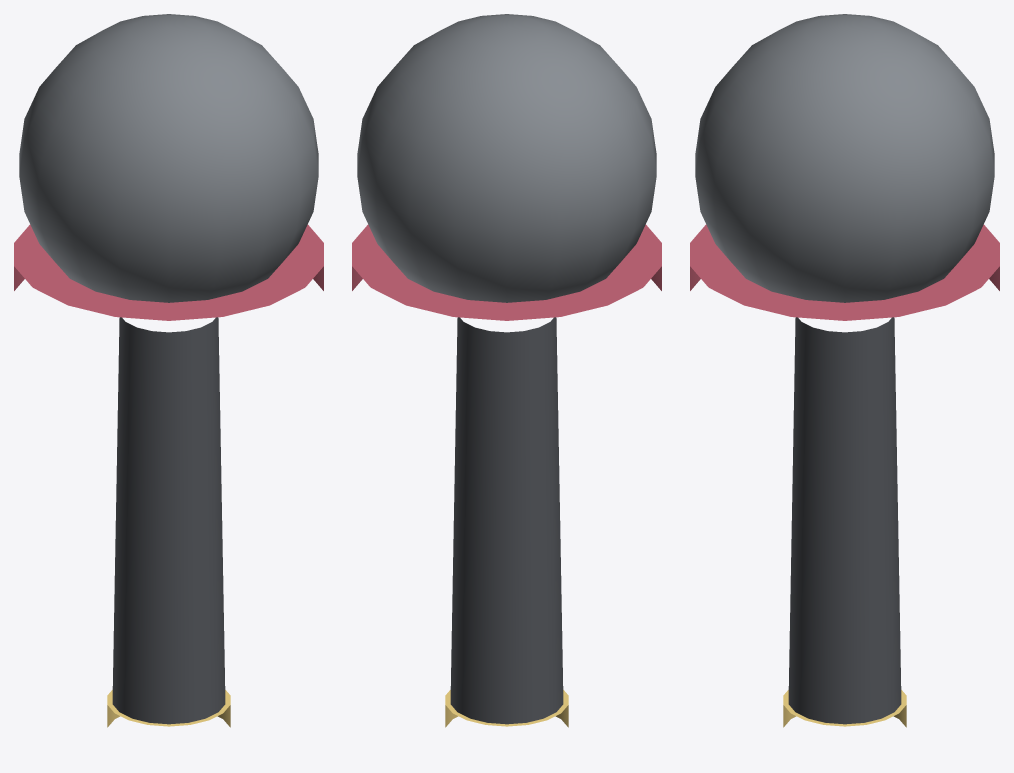
Rendered from microphone.glb.
The picture shows the model from 3 angles, left to right: view 1: azimuth 30°, elevation 25°; view 2: azimuth 150°, elevation 25°; view 3: azimuth 270°, elevation 25°; orthographic projection.
Parts seen in each view (by area): view 1: microphone; view 2: microphone; view 3: microphone.
Boxes of the visible parts, x1,y1,x2,y2 form: microphone: [14, 14, 323, 727]; microphone: [352, 14, 661, 727]; microphone: [690, 14, 999, 727].
Bounding box in the file's own units: 0.176 × 0.435 × 0.1733.
